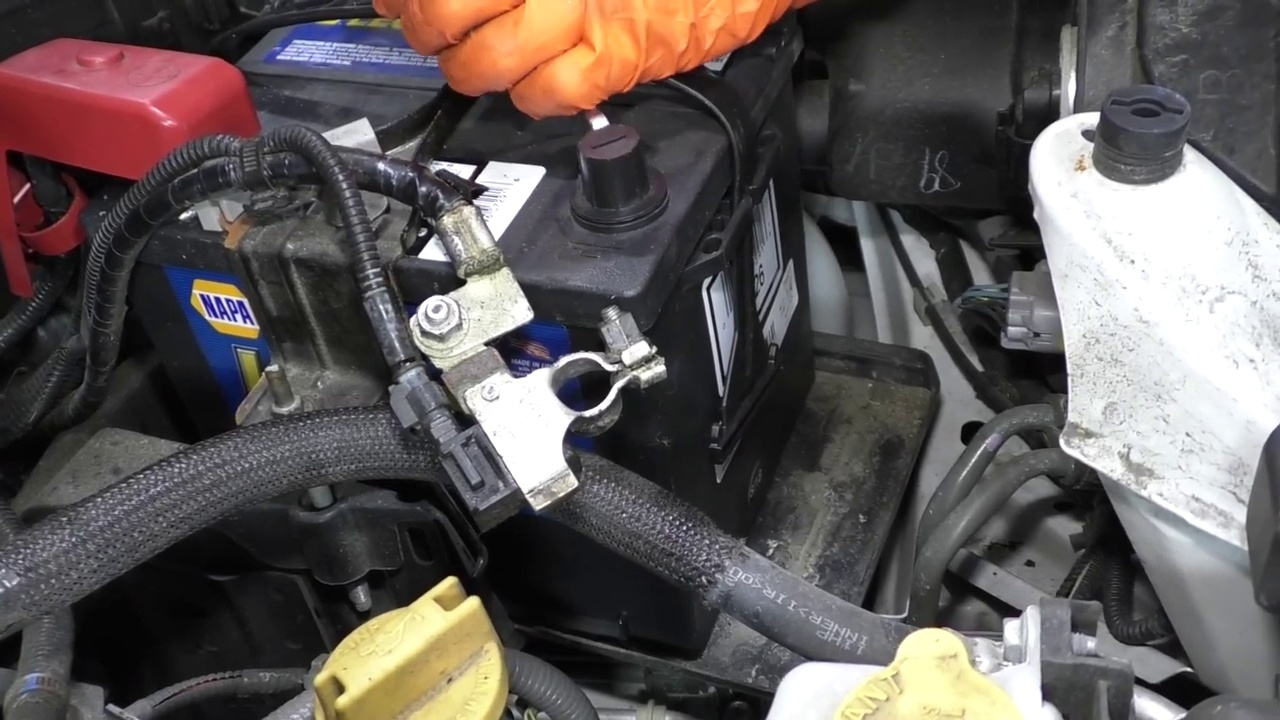battery: (145, 5, 807, 299)
pos_connected: (10, 25, 263, 276)
